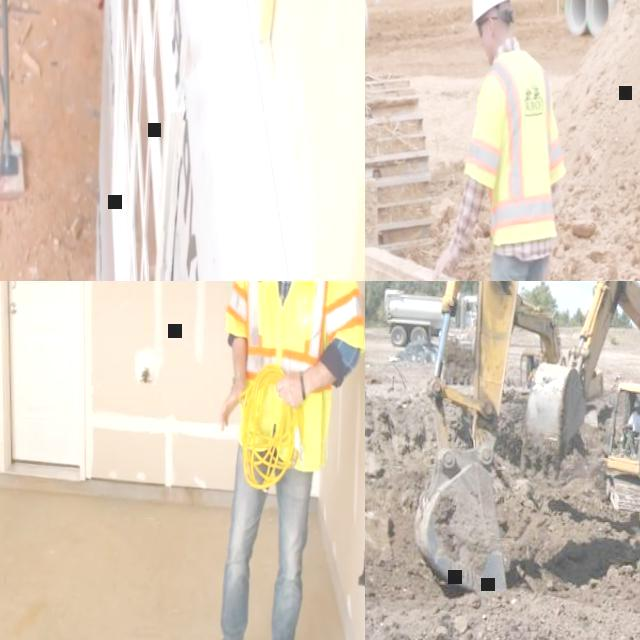helmet: (471, 0, 514, 23), (635, 400, 640, 407)
machinery: (407, 281, 640, 627), (515, 281, 640, 547), (365, 0, 438, 268), (384, 286, 482, 349)
no_mask: (484, 34, 496, 64), (638, 410, 640, 416)
no_vest: (634, 413, 640, 433)
person: (196, 281, 365, 640), (429, 0, 570, 281), (623, 400, 640, 452)
vest: (465, 57, 566, 231), (224, 281, 365, 390)
